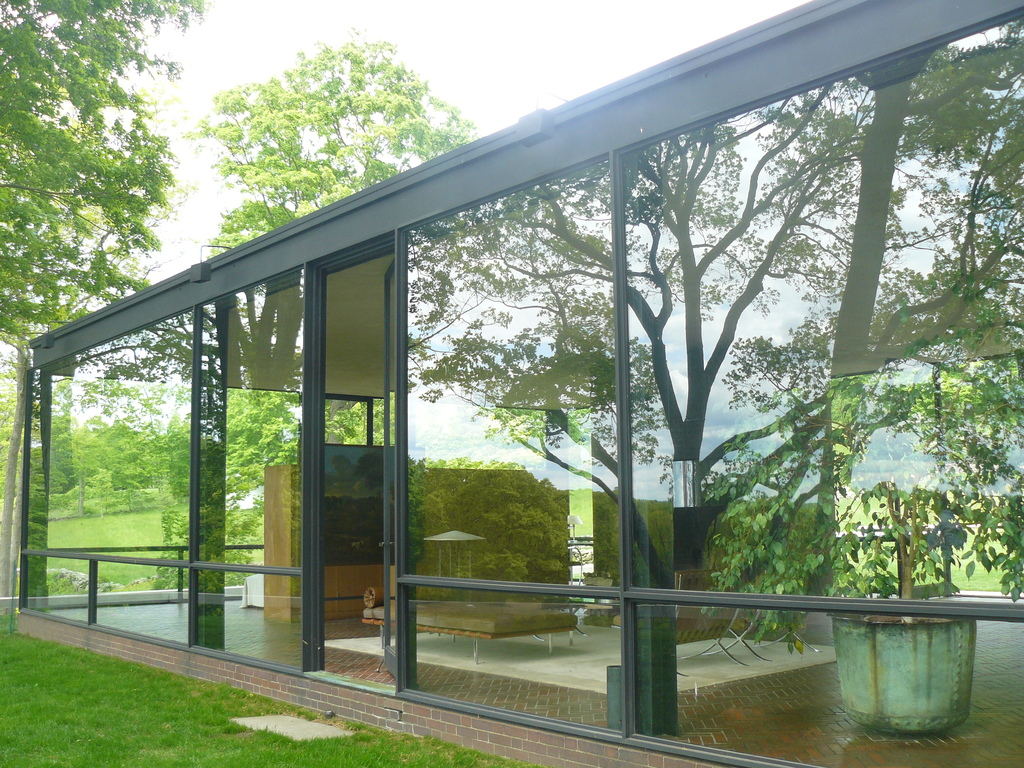Tree: (0, 0, 1023, 600)
